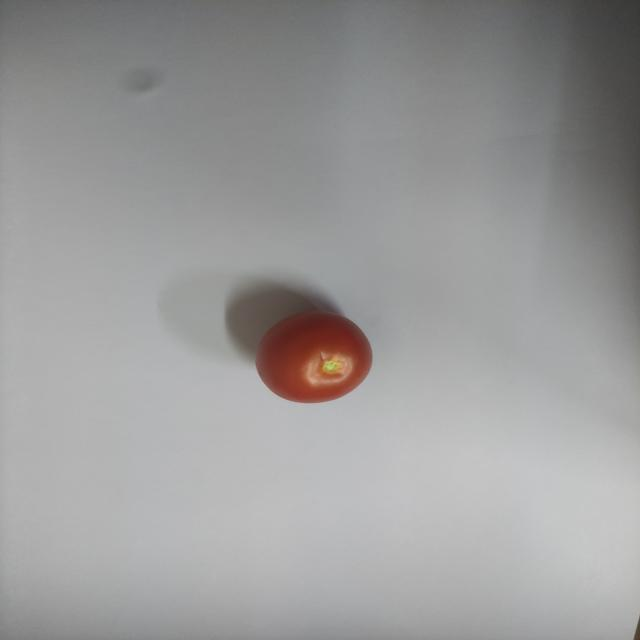kirmizi: (228, 309, 392, 408)
